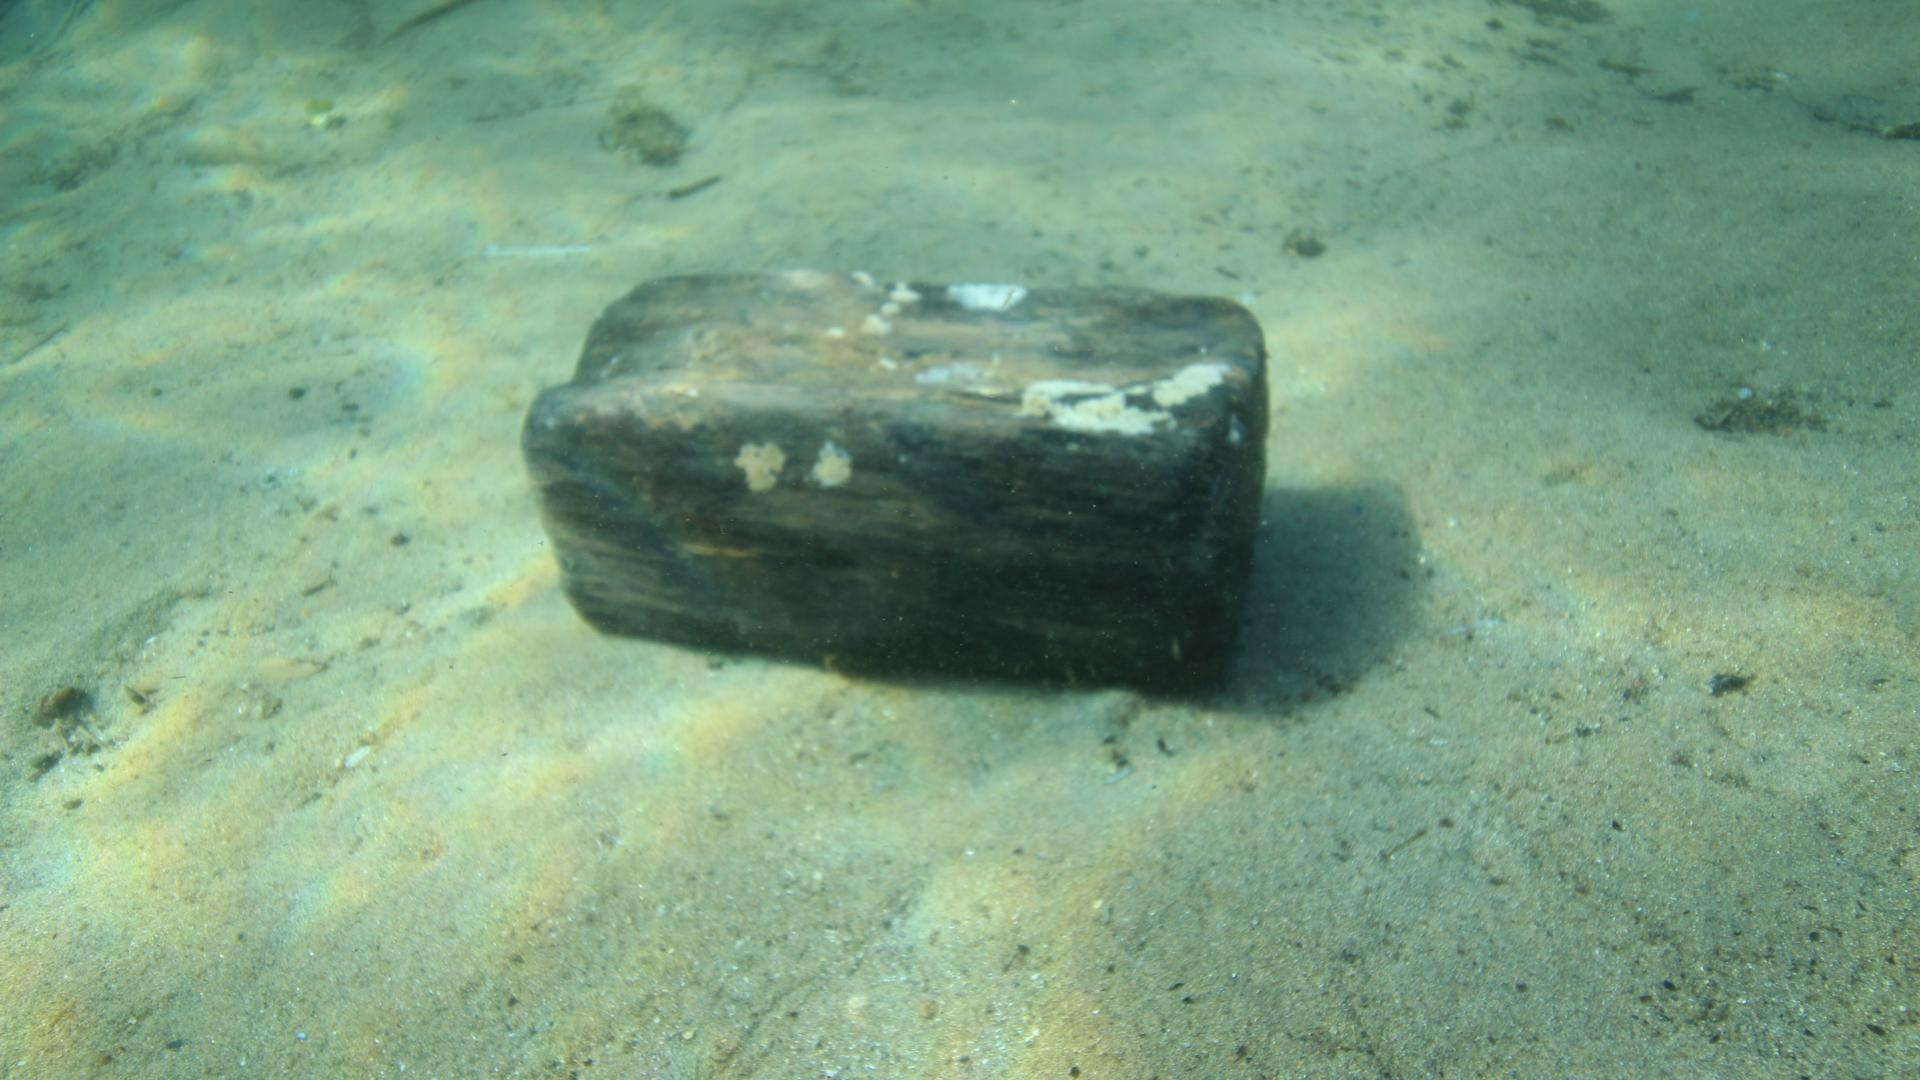wood: (521, 270, 1269, 703)
